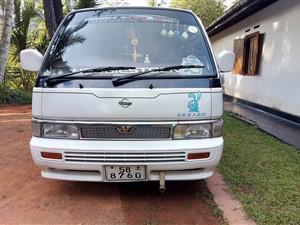Van: (25, 3, 235, 181)
